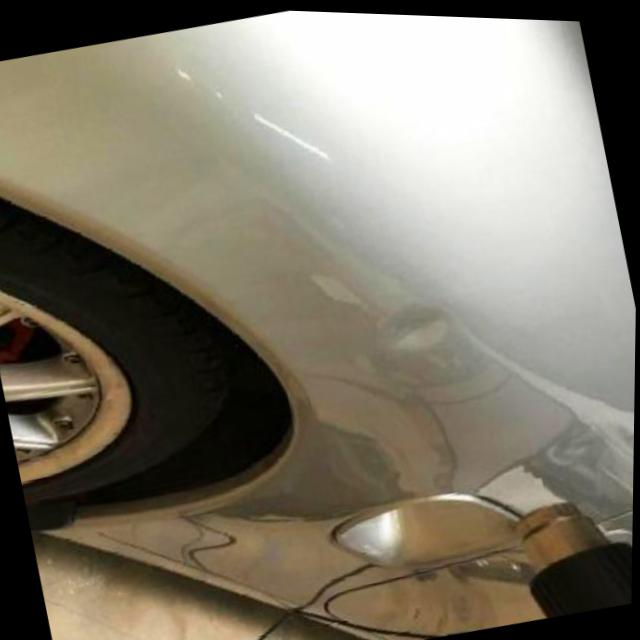Dent: (377, 301, 460, 371)
